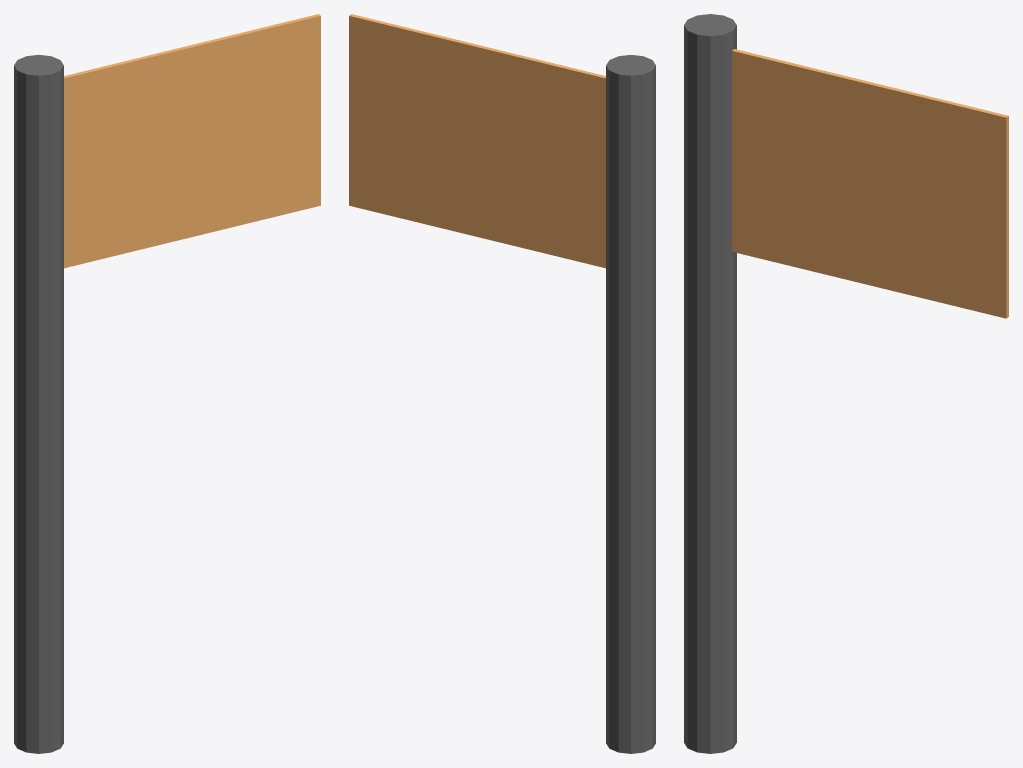
The model's file is flag.fbx.
3 renders of one model, left to right at view 1: azimuth 30°, elevation 25°; view 2: azimuth 150°, elevation 25°; view 3: azimuth 330°, elevation 25°, orthographic. The views are drawn at different scales.
Visible parts, largest first — view 1: Cube; view 2: Cube; view 3: Cube.
Boxes of the visible parts, x1=… form: Cube: x1=14, y1=14, x2=320, y2=753; Cube: x1=349, y1=14, x2=655, y2=753; Cube: x1=684, y1=14, x2=1008, y2=753.
Bounding box in the file's own units: 140 × 300 × 20.
